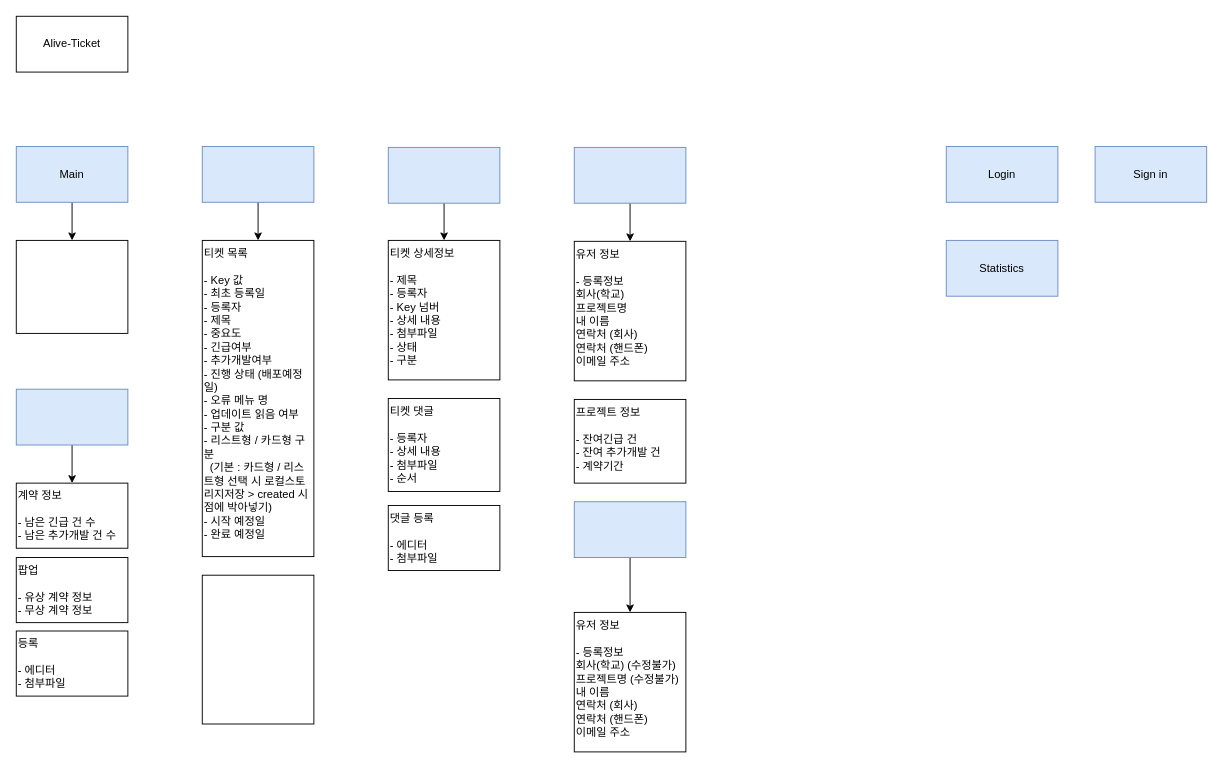
Image size: 1223x768. Some labels were removed from this diagram. The centre of each missing label's shape, as x and y in pixels:
"Submit Ticket" belongs at point 71,416.
"Ticket Details" belongs at point 443,174.
"Ticket List" belongs at point 257,174.
"User Info" belongs at point 629,174.
"User Update" belongs at point 629,529.
"팝업 - 기본 공지사항 (오늘 보지않기 기능 set Cookie)" belongs at point 71,286.
"필터 - 제목 - 메뉴 - 날짜 - 우선순위 - 추가개발 - 접수 상태 - 구분 - 읽음 상태" belongs at point 257,649.
